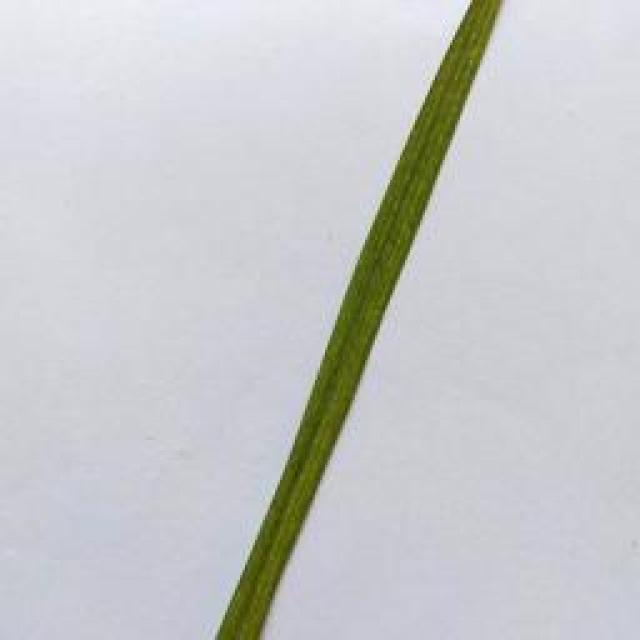Healthy-Plant: (220, 0, 512, 640)
